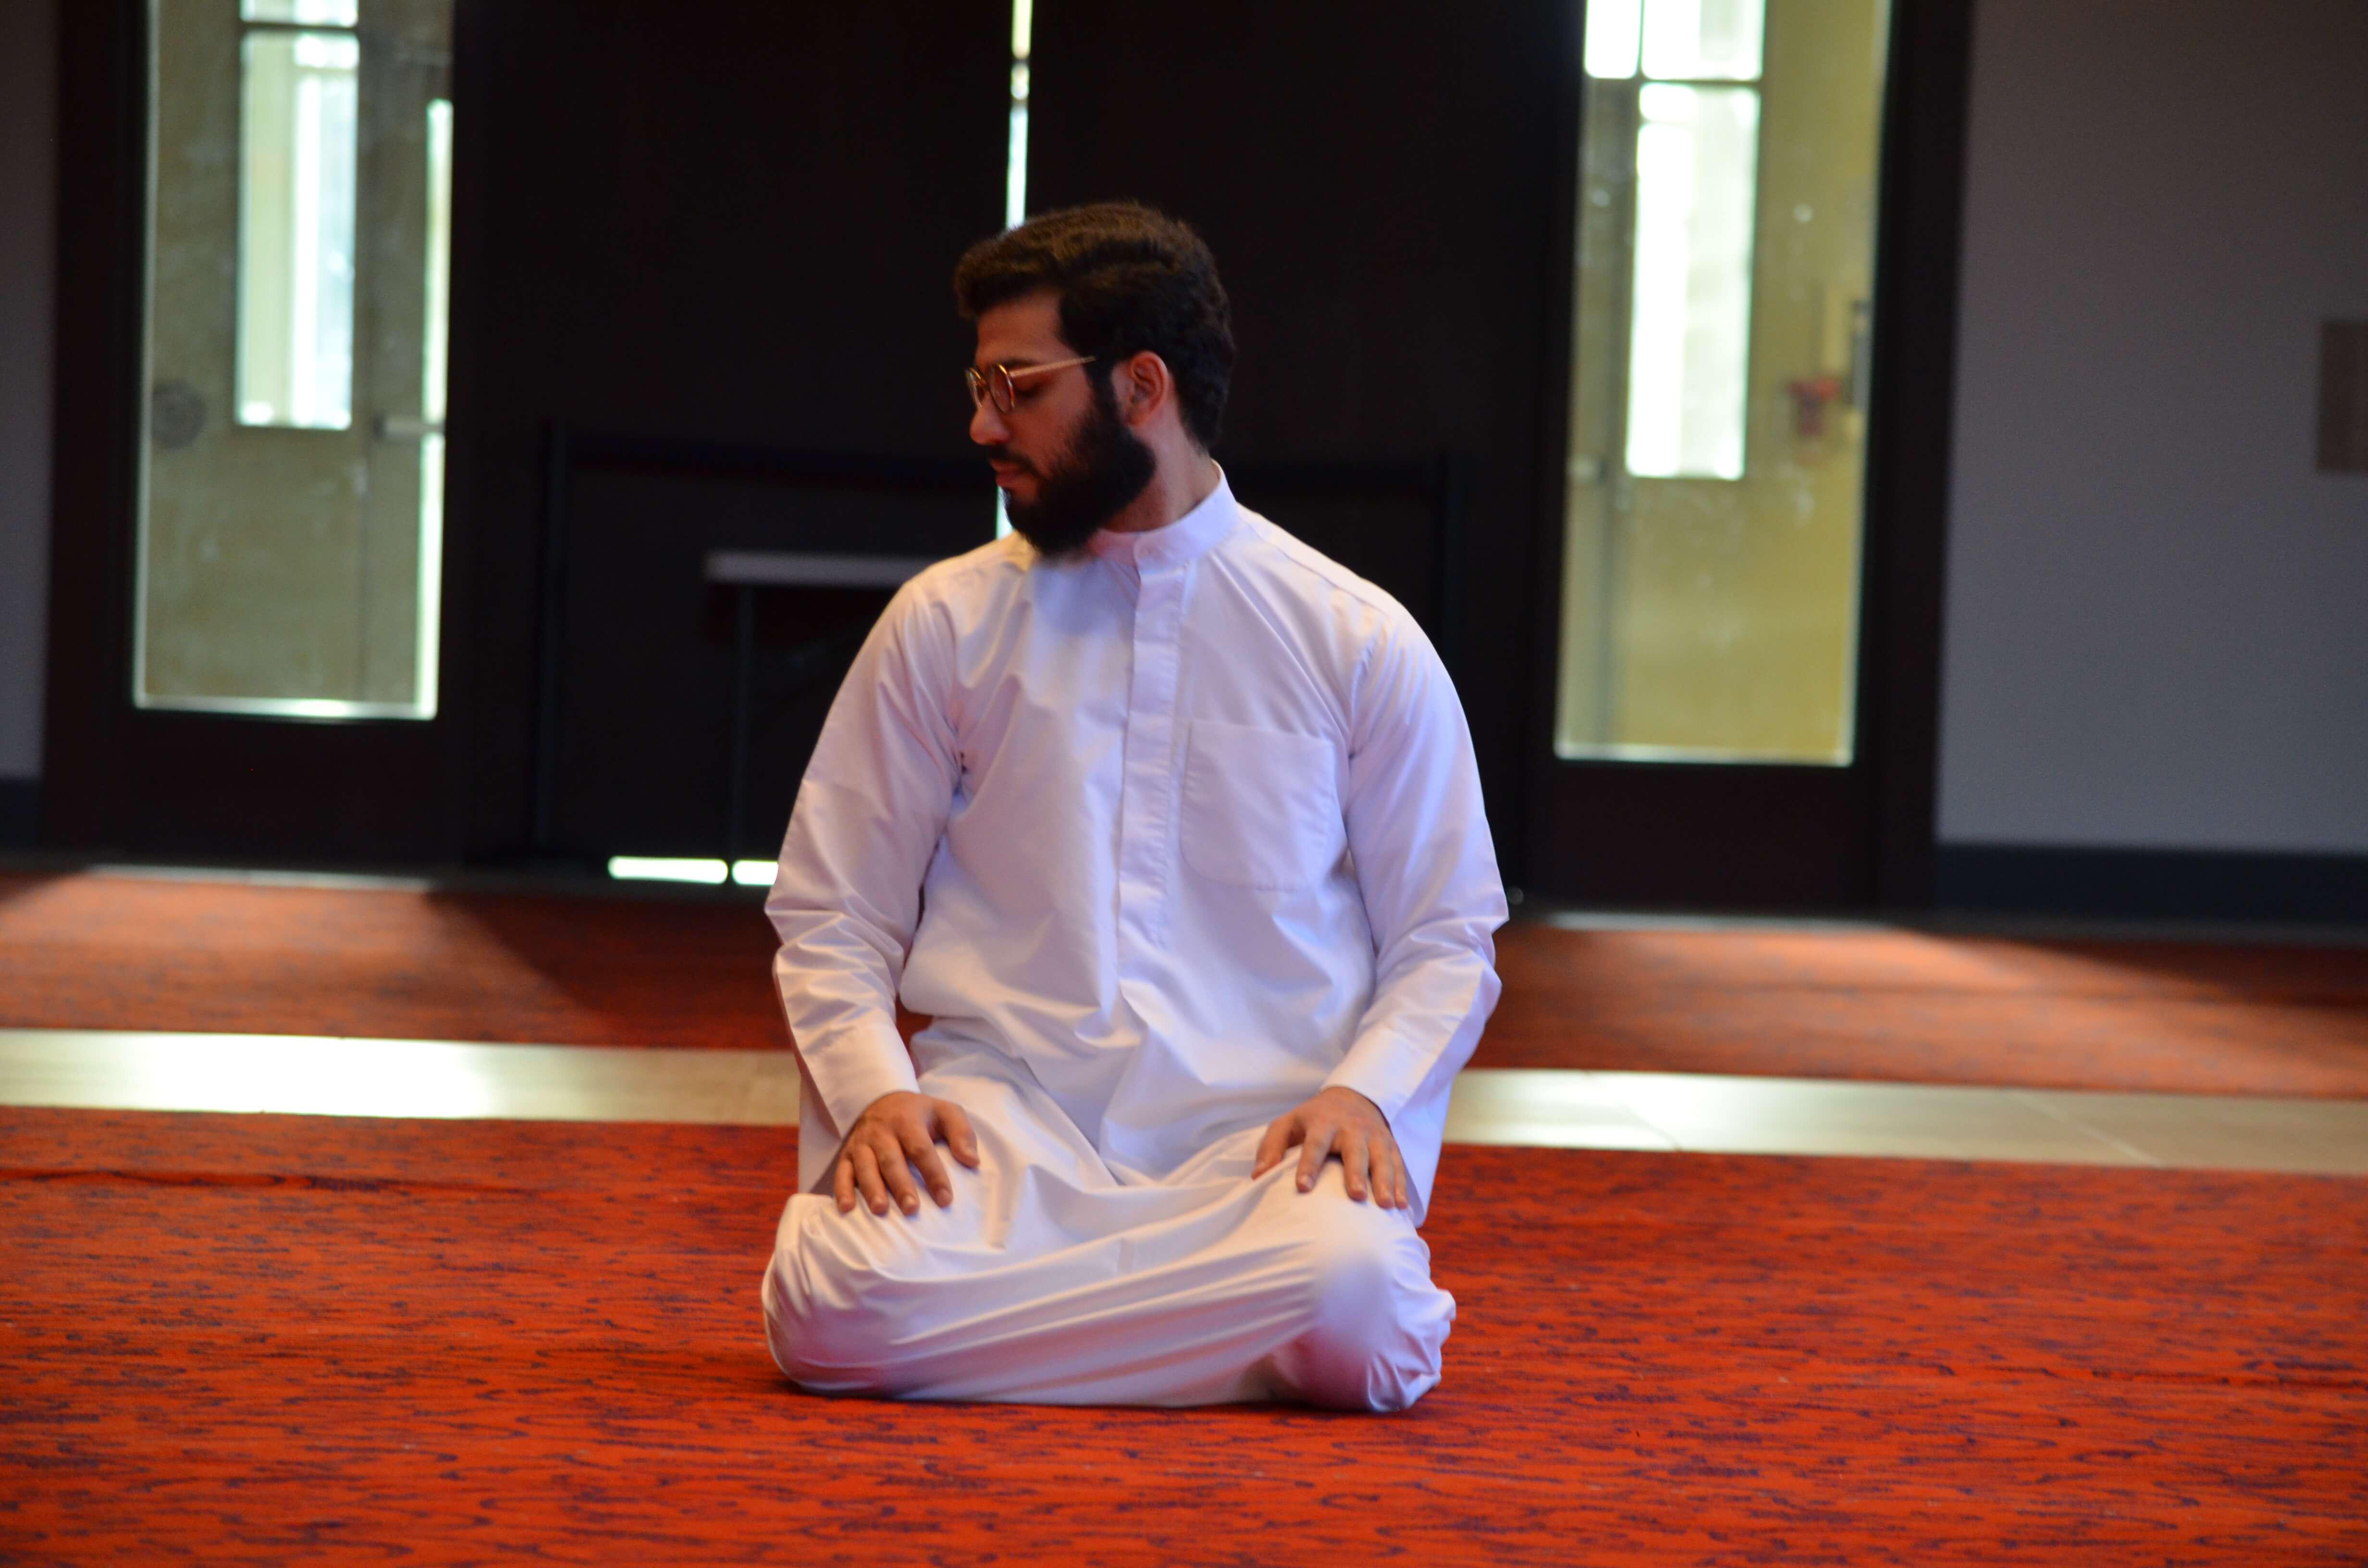julus: (744, 191, 1521, 1423)
